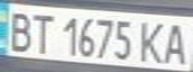1: (57, 12, 81, 56)
5: (112, 16, 139, 62)
6: (75, 14, 96, 58)
7: (93, 15, 115, 60)
A: (160, 19, 193, 65)
B: (3, 8, 36, 53)
K: (136, 17, 169, 64)
T: (27, 10, 57, 55)
